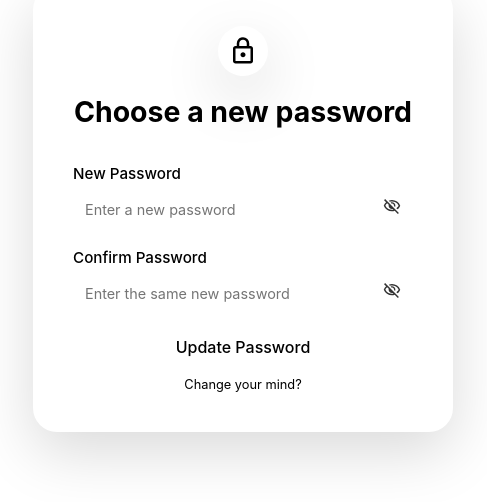
Scenario: ResetPasswordComponent › With Token › should show an error message on invalid request tokens
The width and height of the screenshot is (487, 502).
Type "j123456!" into the password field labelled "New Password" at x=243, y=209, box [73,191,413,228]
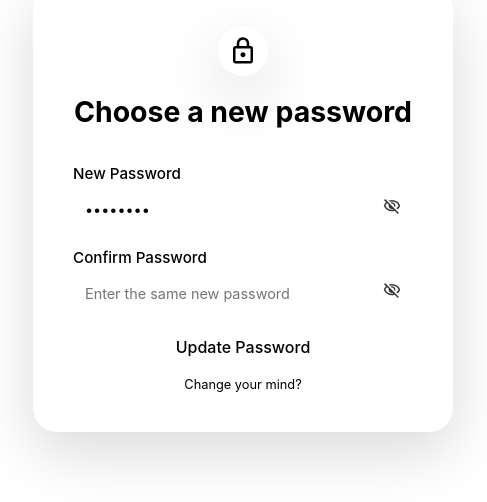
Type "j123456!" into the password field labelled "Confirm Password" at x=243, y=293, box [73,275,413,312]
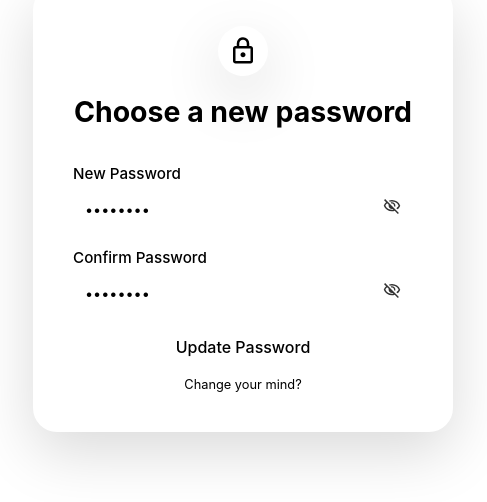
Click the button "Update Password" at x=243, y=347, box [154,327,332,367]
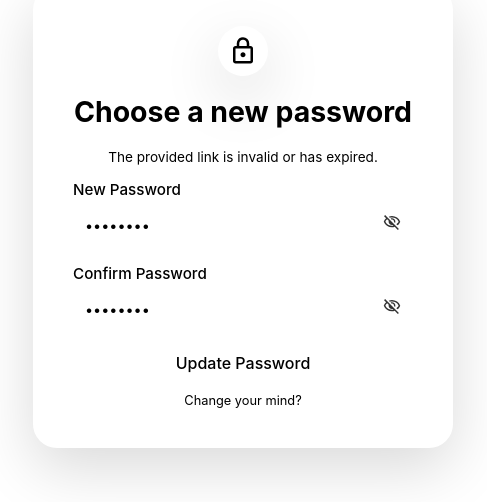
Now the text "The provided link is invalid or has expired." is shown, box [108,149,378,165]
Now the text with class "general" reads "The provided link is invalid or has expired.", box [108,149,378,165]
